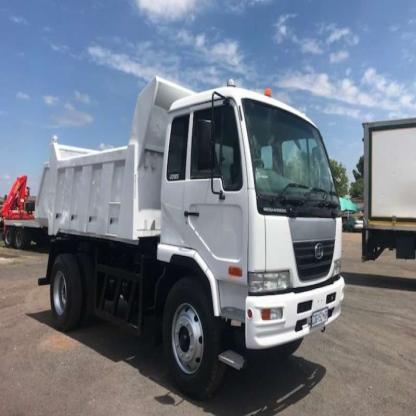dump_truck: (33, 60, 352, 398)
